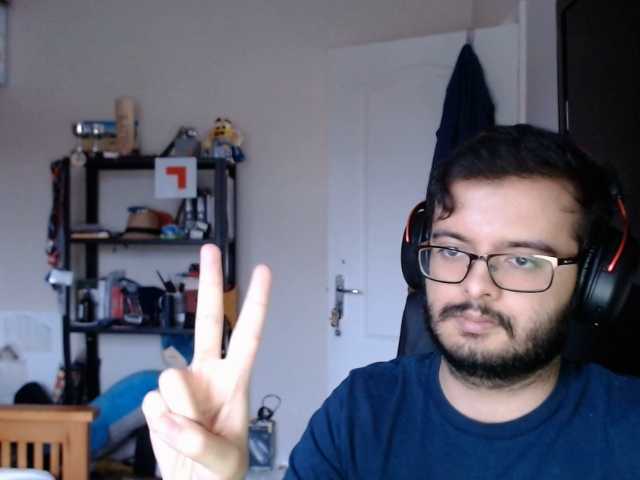Peace: (134, 227, 315, 480)
